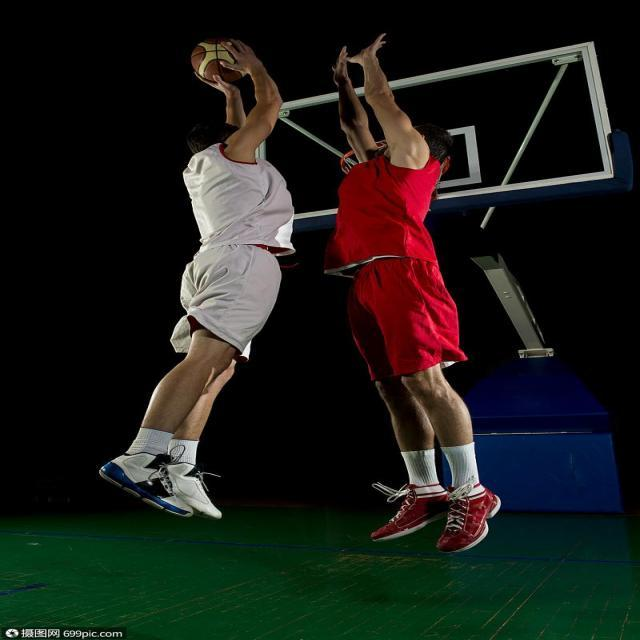rim: (187, 40, 270, 82)
